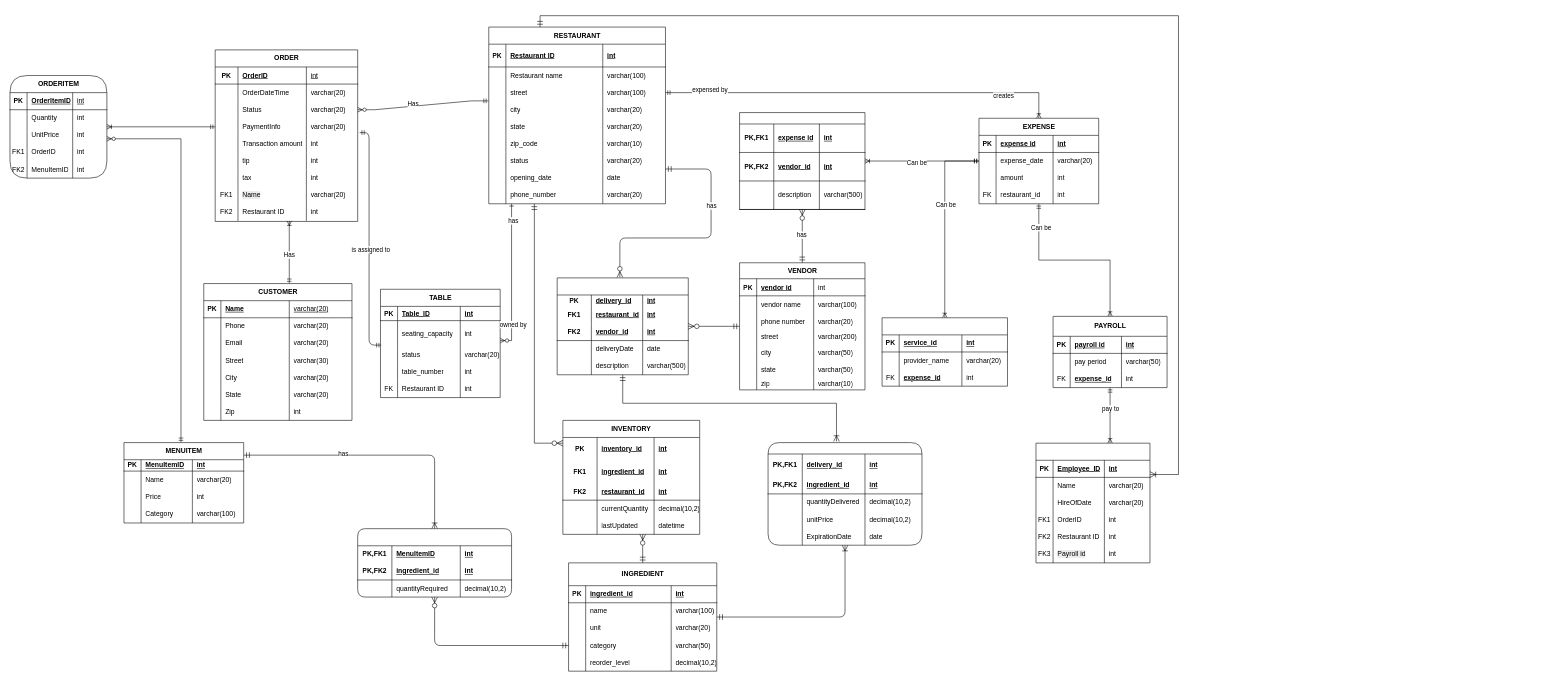
Some shapes in this 1548 by 681 pixel diagram are drawn without their labels. The shapes that lost their labels are listed below. From the top down, each one's box as (x1, y1, x2, y2) in pixels, then its label:
(739, 112, 865, 209): VENDOR EXPENSE
(557, 277, 688, 375): SUPPLIER DELIVERY
(882, 317, 1007, 386): MAINTENANCE
(768, 442, 922, 545): DELIVERY ITEM
(1035, 443, 1150, 563): EMPLOYEES
(357, 528, 512, 597): MENU_INGREDIENT
